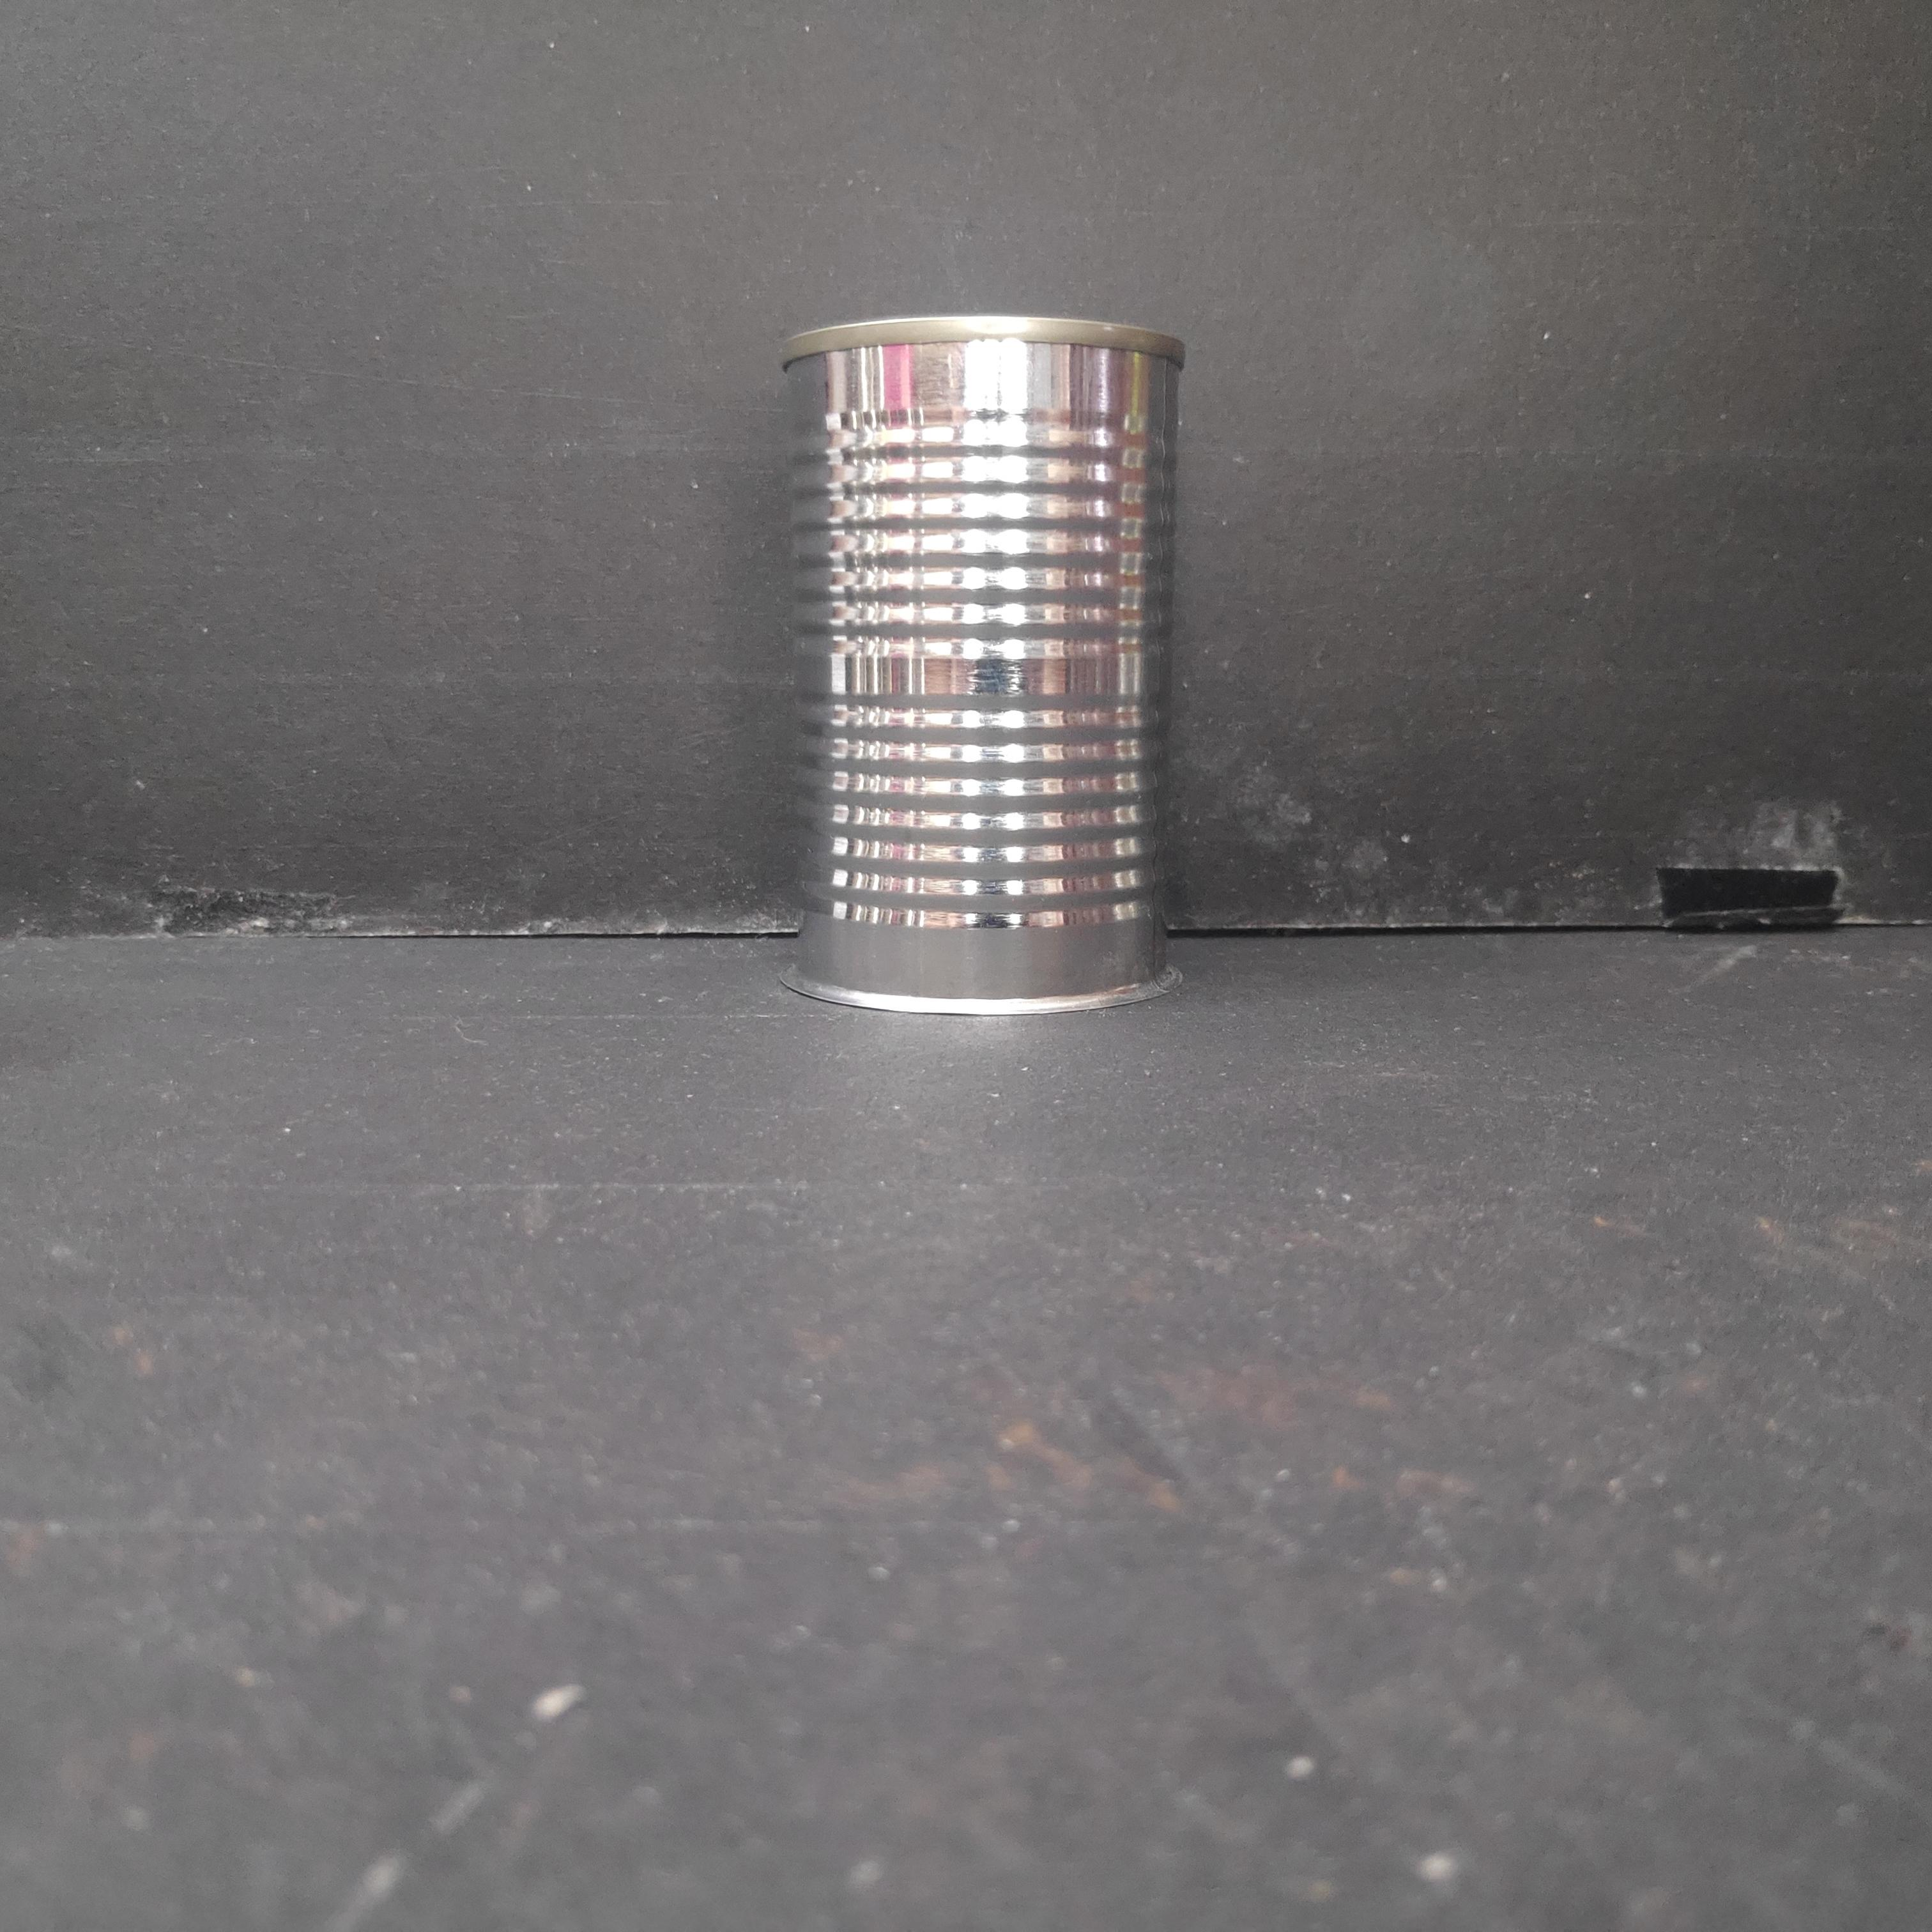No defect: (771, 310, 1193, 1025)
